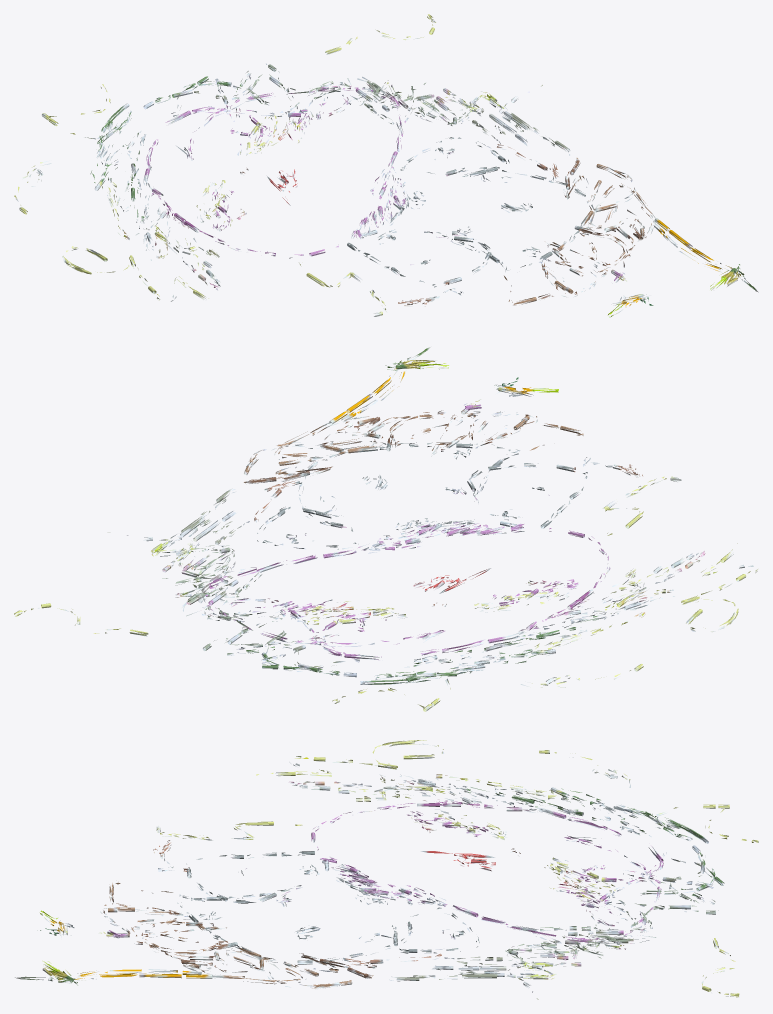
The picture shows the model from 3 angles, top to bottom: view 1: azimuth 30°, elevation 25°; view 2: azimuth 150°, elevation 25°; view 3: azimuth 270°, elevation 25°; orthographic projection. The views are drawn at different scales.
Parts seen in each view (by area): view 1: node_id5; view 2: node_id5; view 3: node_id5.
Part boxes in pixels (<box>): node_id5: <box>14,14,758,317</box>; node_id5: <box>14,346,757,711</box>; node_id5: <box>15,740,758,999</box>.
Bounding box in the file's own units: 0.2096 × 0.00144 × 0.2533.
1 material, 1 textured.
